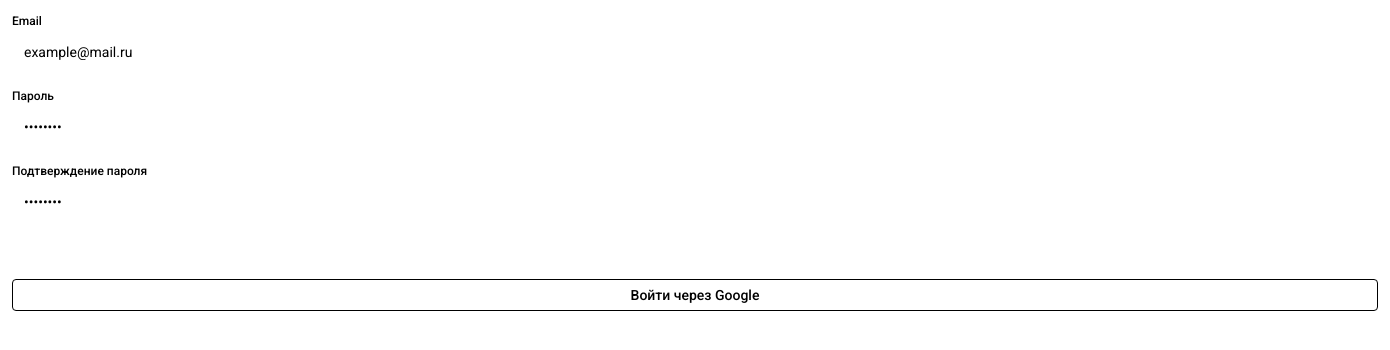
RegisterForm › F-11: 409 EMAIL_ALREADY_EXISTS — ошибка под полем email
In the field labelled "Email": (695, 52) x1=12 y1=34 x2=1378 y2=71, type "taken@example.com"
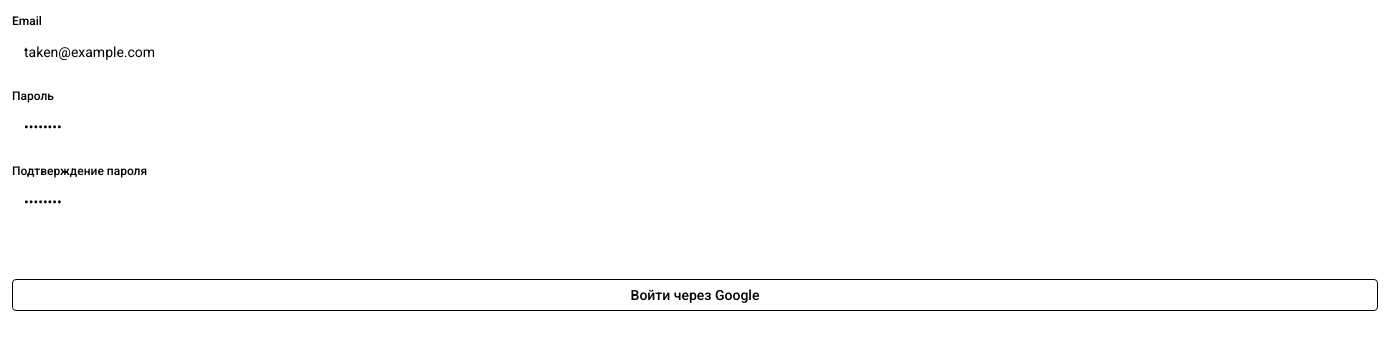
In the password field labelled "Пароль": (695, 128) x1=12 y1=109 x2=1378 y2=146, type "SecurePass1"
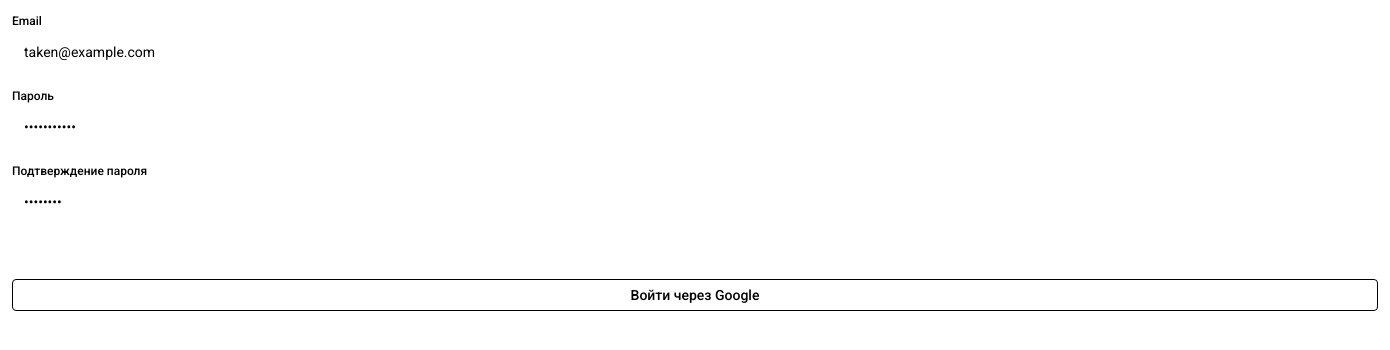
In the password field labelled "Подтверждение пароля": (695, 202) x1=12 y1=184 x2=1378 y2=221, type "SecurePass1"
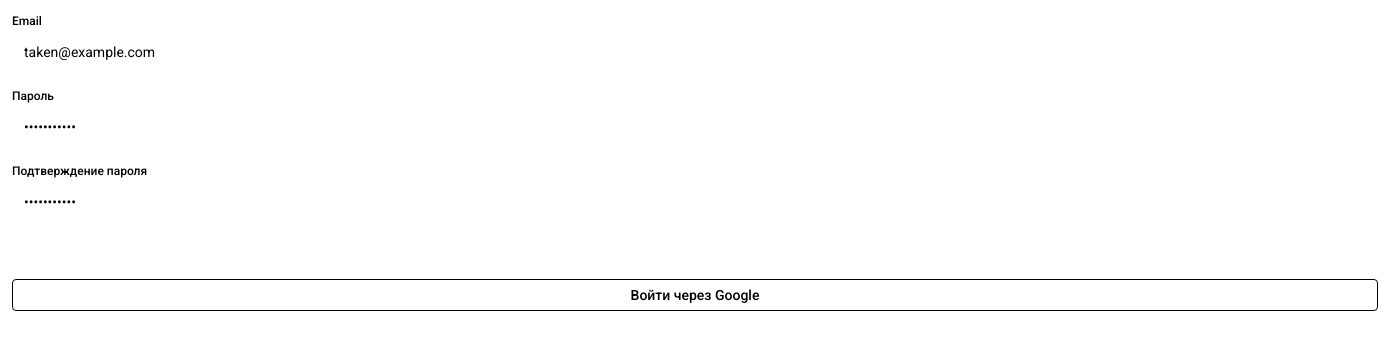
Click the button "Зарегистрироваться": (695, 258) x1=12 y1=237 x2=1378 y2=279
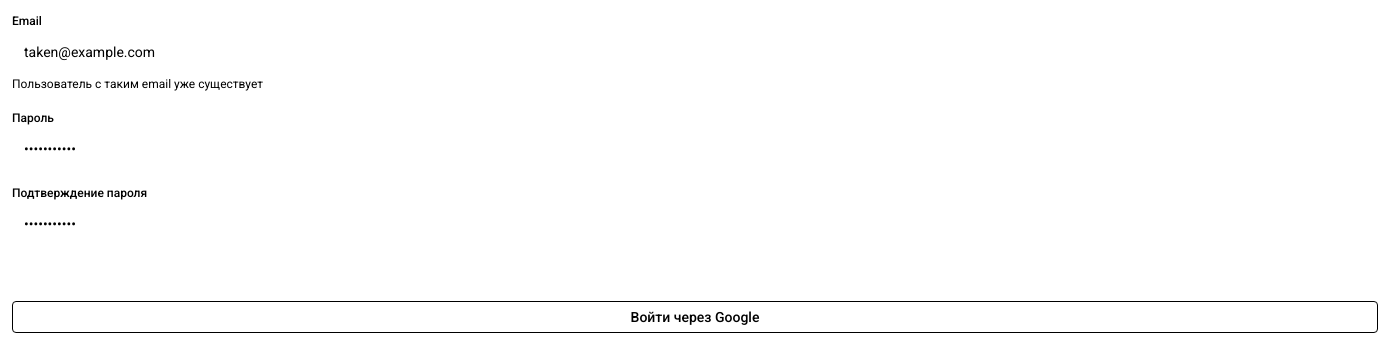
expect the text "Пользователь с таким email уже существует" is shown: met, box x1=12 y1=77 x2=263 y2=91
